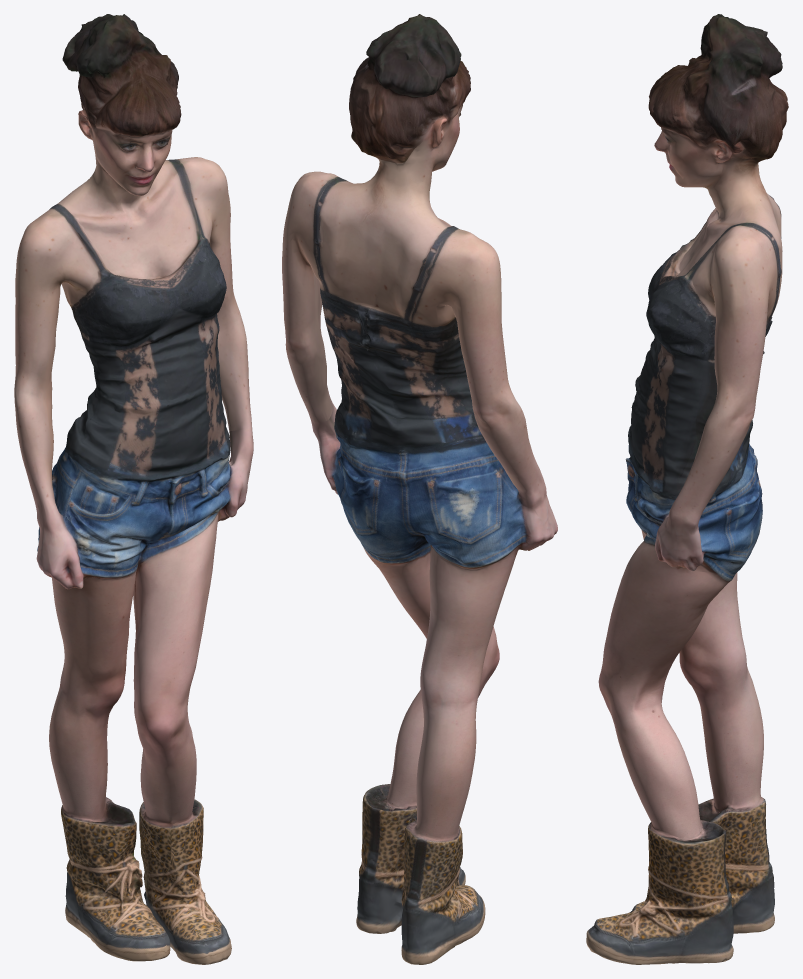
File: Girl in sexy top jeans short and tigerboots posing sexy_FBX.fbx
3 renders of one model, left to right at view 1: azimuth 30°, elevation 25°; view 2: azimuth 150°, elevation 25°; view 3: azimuth 270°, elevation 25°, orthographic.
Parts seen in each view (by area): view 1: Scan-10.Shape; view 2: Scan-10.Shape; view 3: Scan-10.Shape.
Boxes of the visible parts, bbox=[...] form: Scan-10.Shape: bbox=[14, 14, 253, 964]; Scan-10.Shape: bbox=[282, 14, 557, 964]; Scan-10.Shape: bbox=[586, 14, 788, 964].
Size of the model in its own units: 44.79 by 170 by 33.99.
1 material, 1 textured.
